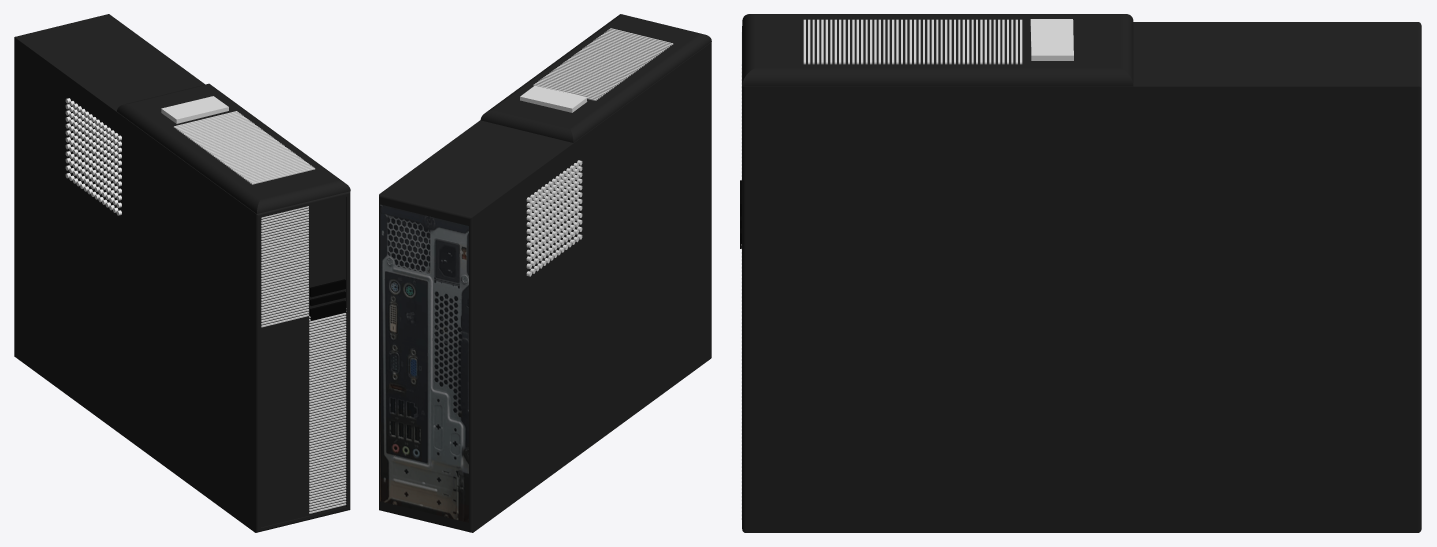
The model's file is case.fbx.
3 renders of one model, left to right at view 1: azimuth 30°, elevation 25°; view 2: azimuth 150°, elevation 25°; view 3: azimuth 270°, elevation 25°, orthographic. The views are drawn at different scales.
Visible parts, largest first — view 1: hop, day 002, day 001, Cube.002, Cylinder.011, Cube.001, Cube.003; view 2: hop, mất, Cube.002, Cylinder.011, Cube.001; view 3: hop, Cube.002, Cube.001.
Part boxes in pixels (x1,y1,x2,y2): hop: (14,14,350,532); day 002: (309,308,346,513); day 001: (261,206,308,327); Cube.002: (173,111,315,184); Cylinder.011: (65,98,121,215); Cube.001: (161,96,228,123); Cube.003: (310,300,345,320); hop: (379,14,711,532); mất: (380,204,468,522); Cube.002: (533,28,673,100); Cylinder.011: (526,160,582,276); Cube.001: (520,85,587,112); hop: (742,14,1421,532); Cube.002: (803,19,1022,64); Cube.001: (1030,19,1073,60).
Bounding box in the file's own units: 9.29 × 30.22 × 40.2.
Materials: 5 (1 with a texture image).
